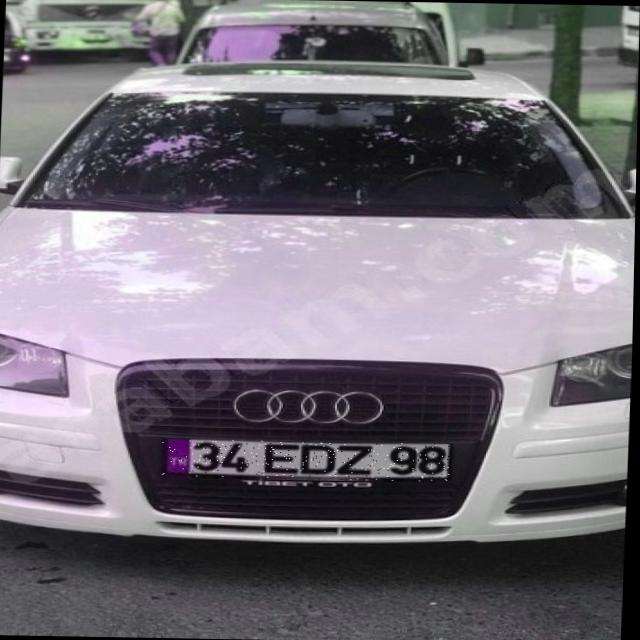license_plate: (163, 439, 454, 482)
